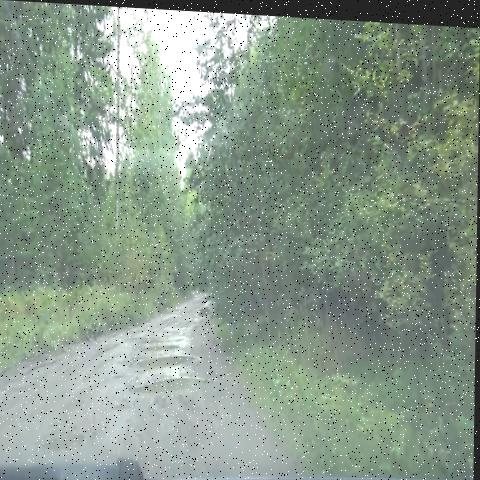pothole: (127, 361, 219, 416), (37, 412, 103, 468), (129, 343, 204, 381), (130, 326, 202, 359), (187, 295, 219, 320), (109, 388, 131, 416), (108, 370, 134, 384)
